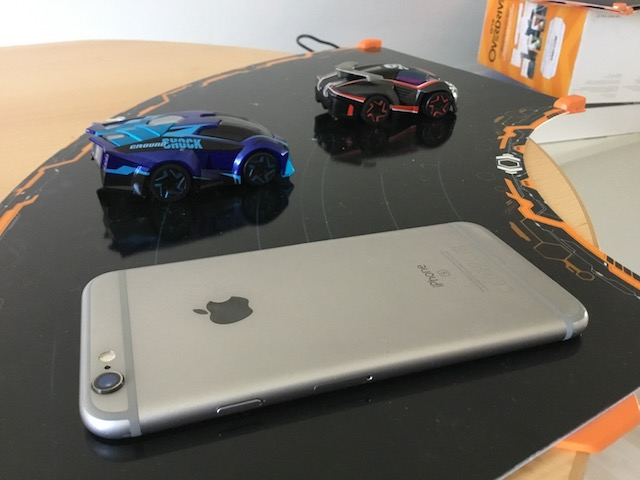car-blue: (82, 108, 299, 205)
car-red: (311, 58, 461, 132)
phone: (75, 218, 592, 444)
